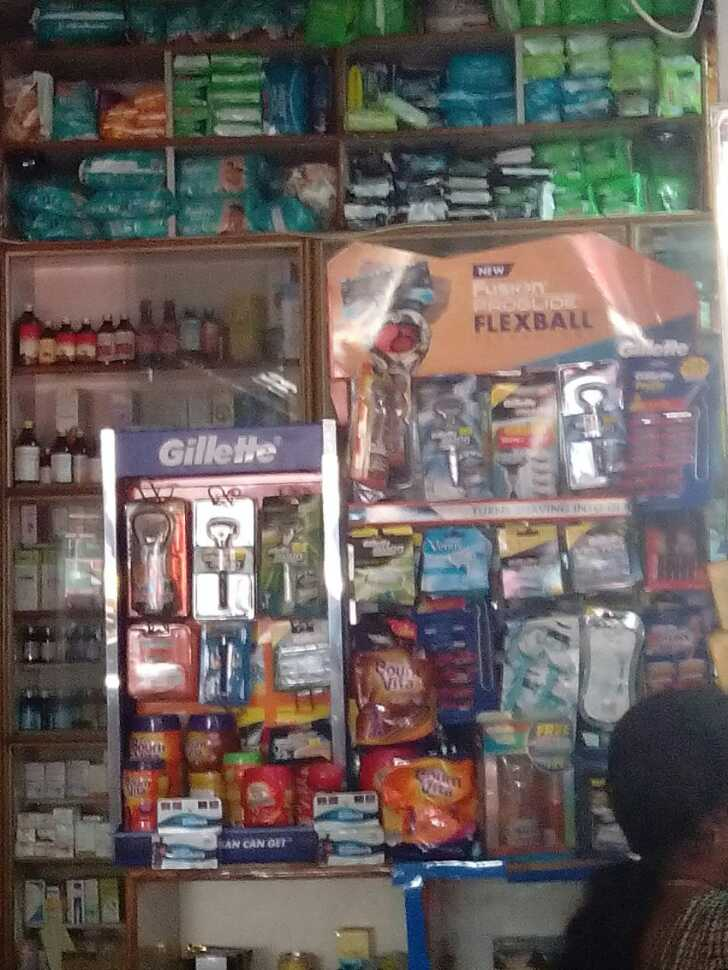beauty: (410, 383, 489, 504), (256, 498, 334, 616), (487, 375, 557, 498), (119, 498, 187, 618), (560, 372, 628, 487), (189, 500, 257, 609), (351, 360, 406, 486), (565, 519, 636, 592), (413, 527, 496, 589), (501, 528, 568, 604), (348, 533, 421, 597)
pharmacy: (50, 78, 109, 148), (178, 156, 259, 204), (178, 203, 272, 239), (587, 177, 653, 218), (534, 148, 587, 192), (395, 178, 462, 209), (486, 183, 543, 216), (583, 142, 639, 174), (171, 74, 212, 112), (396, 153, 450, 175), (178, 112, 215, 137)
